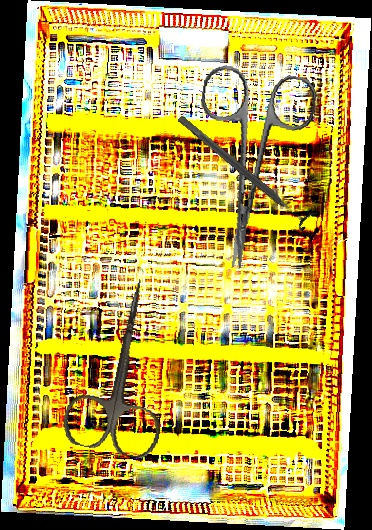Fixation Ring: (171, 107, 318, 234)
Iris Scissors: (176, 62, 319, 277), (57, 269, 191, 462)
